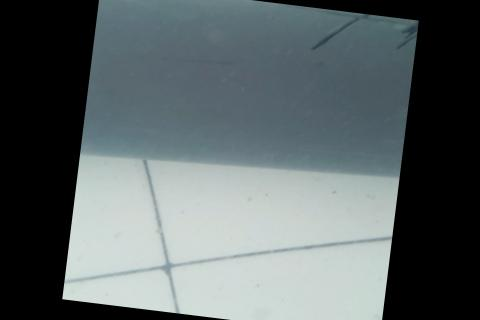keretakan: (277, 4, 418, 62)
